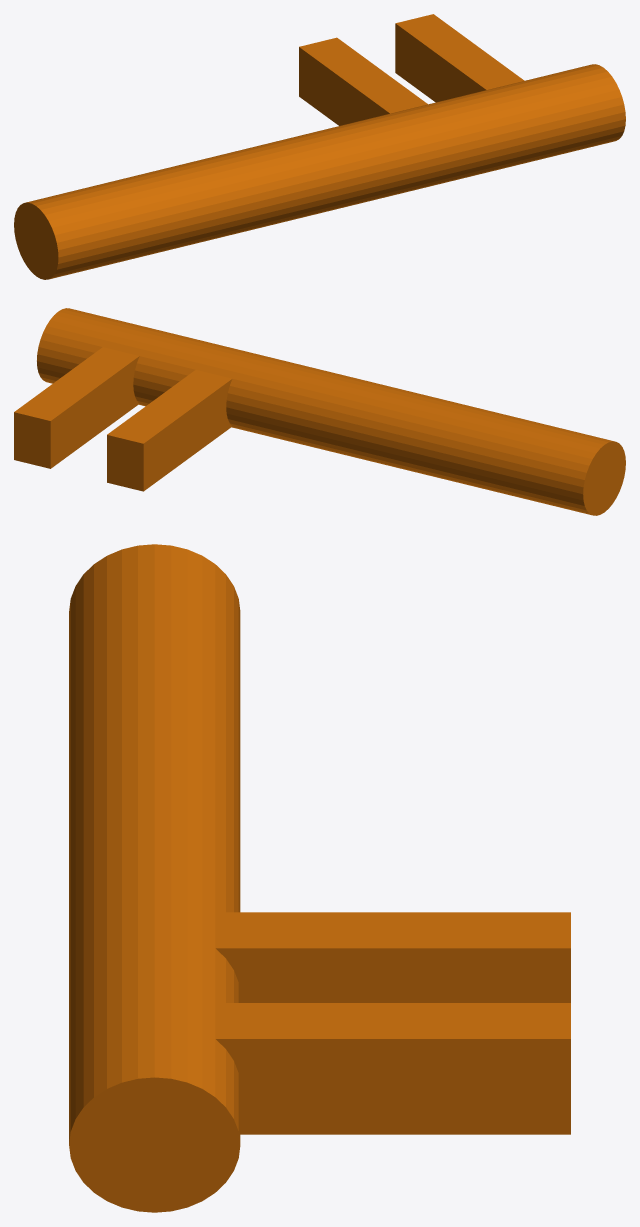
The model's file is KeyDown.obj.
3 renders of one model, top to bottom at view 1: azimuth 30°, elevation 25°; view 2: azimuth 150°, elevation 25°; view 3: azimuth 270°, elevation 25°, orthographic. The views are drawn at different scales.
Visible parts, largest first — view 1: 円柱, 立方体.001, 立方体; view 2: 円柱, 立方体.001, 立方体; view 3: 円柱, 立方体.001, 立方体.
Part boxes in pixels (<box>): 円柱: <box>14,64,625,279</box>; 立方体.001: <box>395,14,524,102</box>; 立方体: <box>299,37,427,125</box>; 円柱: <box>37,308,625,515</box>; 立方体.001: <box>14,347,139,468</box>; 立方体: <box>107,370,232,491</box>; 円柱: <box>69,544,240,1212</box>; 立方体.001: <box>215,1003,570,1134</box>; 立方体: <box>215,912,570,1002</box>.
Size of the model in its own units: 0.5883 by 0.0696 by 0.234.
